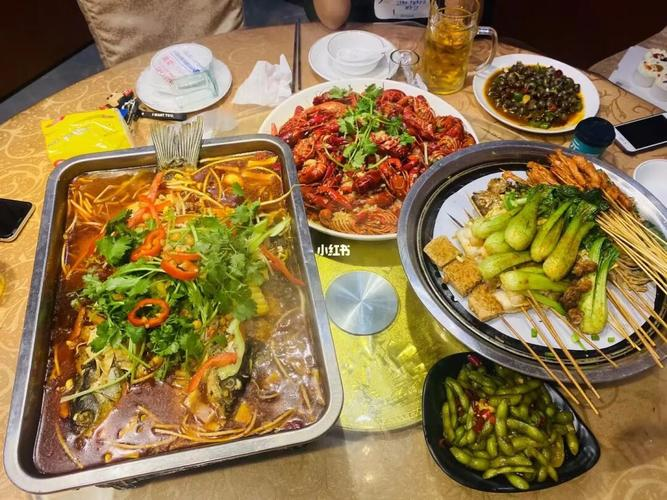food: (23, 140, 331, 460), (410, 127, 663, 356), (260, 68, 483, 244), (419, 335, 594, 490), (473, 42, 597, 134)
